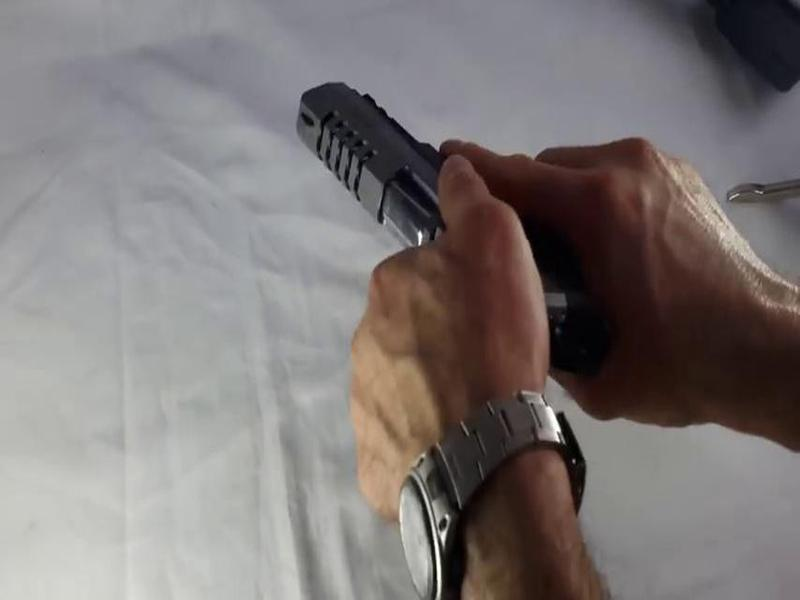Pistola: (275, 61, 627, 361)
